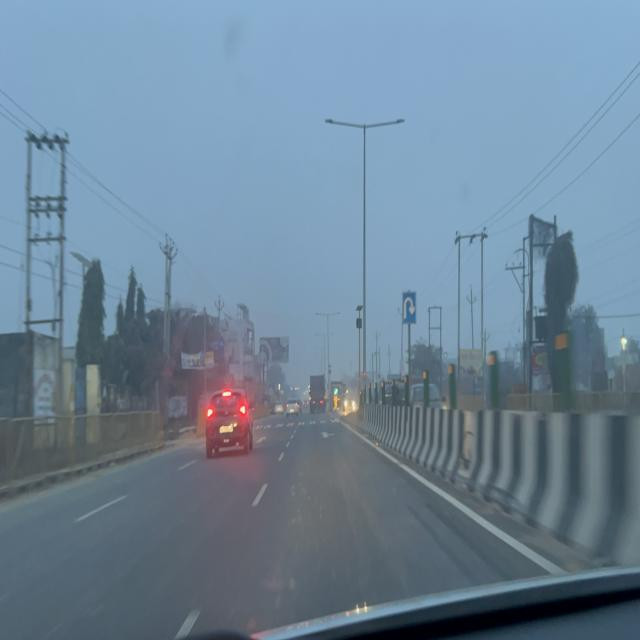U_TURN: (402, 291, 416, 325)
